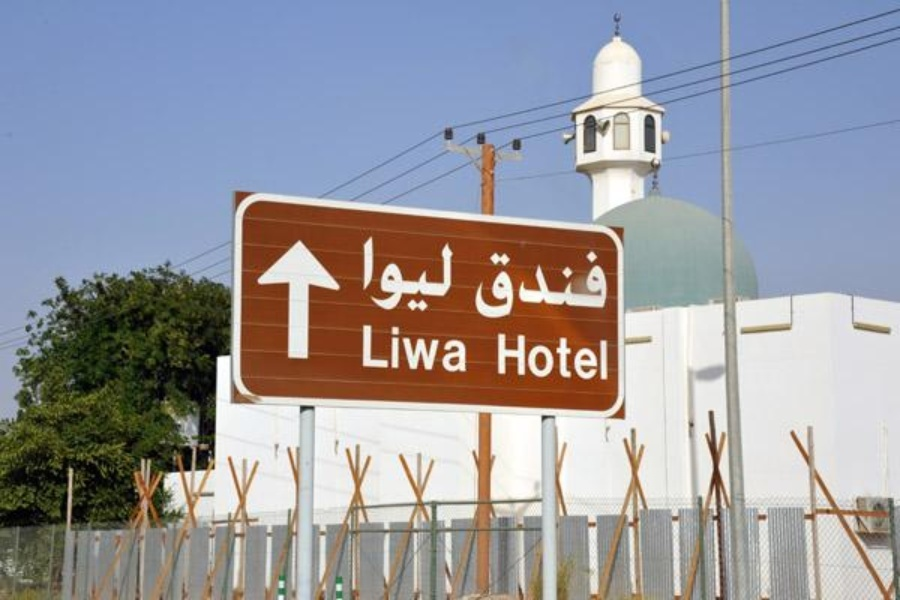text: (481, 245, 496, 328), (497, 245, 512, 328), (513, 245, 528, 328), (529, 245, 544, 328), (545, 245, 560, 328), (561, 245, 576, 328), (577, 245, 592, 328), (593, 245, 608, 328), (369, 235, 384, 314), (385, 235, 400, 314), (401, 235, 416, 314), (417, 235, 432, 314), (433, 235, 448, 314), (369, 319, 384, 374), (385, 319, 400, 374), (401, 319, 416, 374), (417, 319, 432, 374), (433, 319, 448, 374), (449, 319, 464, 374), (497, 331, 512, 385), (513, 331, 528, 385), (529, 331, 544, 385), (545, 331, 560, 385), (561, 331, 576, 385), (577, 331, 592, 385), (593, 331, 608, 385), (362, 235, 368, 314), (449, 235, 455, 314), (362, 319, 368, 374), (465, 319, 470, 374), (609, 245, 611, 328), (609, 331, 611, 385), (479, 245, 480, 328)
